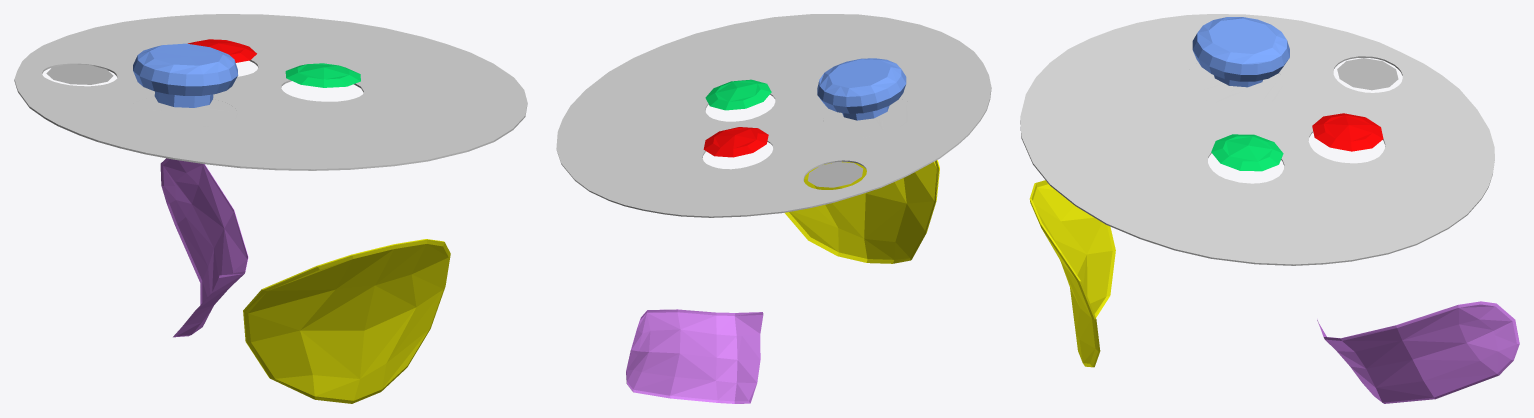
The model's file is webuild-controller-small.glb.
The picture shows the model from 3 angles, left to right: view 1: azimuth 30°, elevation 25°; view 2: azimuth 150°, elevation 25°; view 3: azimuth 270°, elevation 25°; orthographic projection. The views are drawn at different scales.
Bounding box in the file's own units: 0.2905 × 0.224 × 0.3059.
